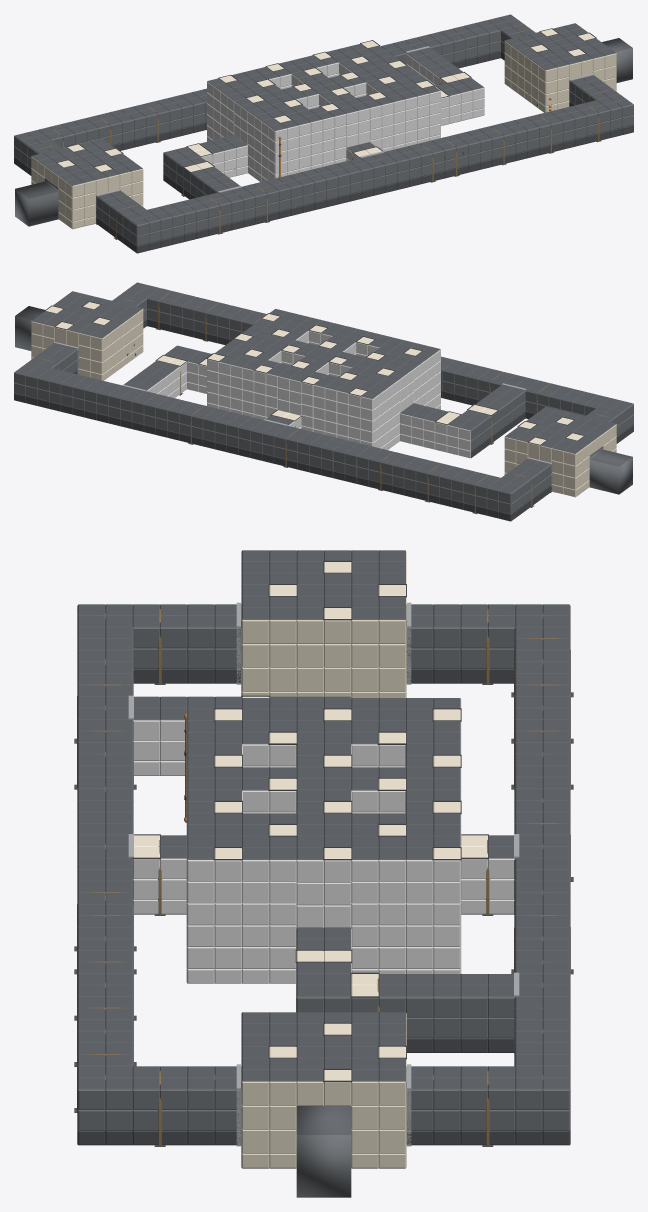
The model's file is alienship_clean_v2.fbx.
The picture shows the model from 3 angles, top to bottom: view 1: azimuth 30°, elevation 25°; view 2: azimuth 150°, elevation 25°; view 3: azimuth 270°, elevation 25°; orthographic projection. The views are drawn at different scales.
Visible parts, largest first — view 1: Hull_Walls, Hull_Ceiling, Ceiling_Light_Panels_Glow, Door_Start_Space, Ceiling_Light_Bezels, Door_End_Space, Ribs; view 2: Hull_Walls, Hull_Ceiling, Ceiling_Light_Panels_Glow, Door_Start_Space, Ceiling_Light_Bezels, Door_End_Space, Ribs, Hall_Bulkhead_Frames; view 3: Hull_Ceiling, Hull_Walls, Ceiling_Light_Panels_Glow, Door_End_Space, Ceiling_Light_Bezels, Ribs, Hall_Bulkhead_Frames.
Boxes of the visible parts, <box> form: Hull_Walls: <box>14,30,633,253</box>; Hull_Ceiling: <box>14,14,633,225</box>; Ceiling_Light_Panels_Glow: <box>58,29,595,171</box>; Door_Start_Space: <box>15,178,58,226</box>; Ceiling_Light_Bezels: <box>56,28,596,172</box>; Door_End_Space: <box>602,38,632,82</box>; Ribs: <box>39,30,608,239</box>; Hull_Walls: <box>14,298,633,521</box>; Hull_Ceiling: <box>14,282,633,493</box>; Ceiling_Light_Panels_Glow: <box>46,302,583,444</box>; Door_Start_Space: <box>589,446,632,494</box>; Ceiling_Light_Bezels: <box>44,301,584,445</box>; Door_End_Space: <box>15,306,44,350</box>; Ribs: <box>39,293,608,513</box>; Hall_Bulkhead_Frames: <box>53,342,555,492</box>; Hull_Ceiling: <box>78,550,569,1089</box>; Hull_Walls: <box>77,551,570,1168</box>; Ceiling_Light_Panels_Glow: <box>134,562,487,1080</box>; Door_End_Space: <box>296,1106,351,1197</box>; Ceiling_Light_Bezels: <box>132,560,488,1082</box>; Ribs: <box>74,609,573,1146</box>; Hall_Bulkhead_Frames: <box>128,602,519,1146</box>.
Size of the model in its own units: 10212 by 1040 by 3656.
